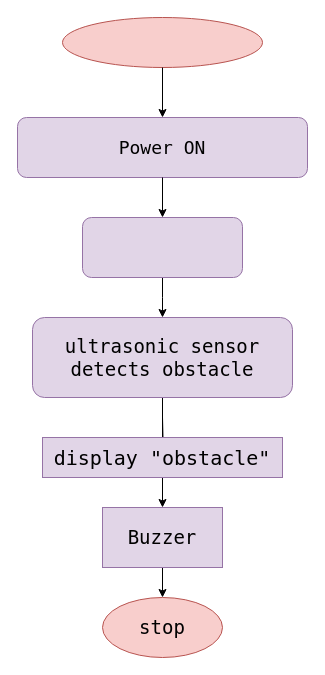
Some shapes in this 325 by 675 pixel diagram are drawn without their labels. The shapes that lost their labels are listed below. From the top down, each one's box as (x1, y1, x2, y2) in pixels, then its label:
(62, 16, 262, 68): start
(82, 216, 242, 278): Display hello
